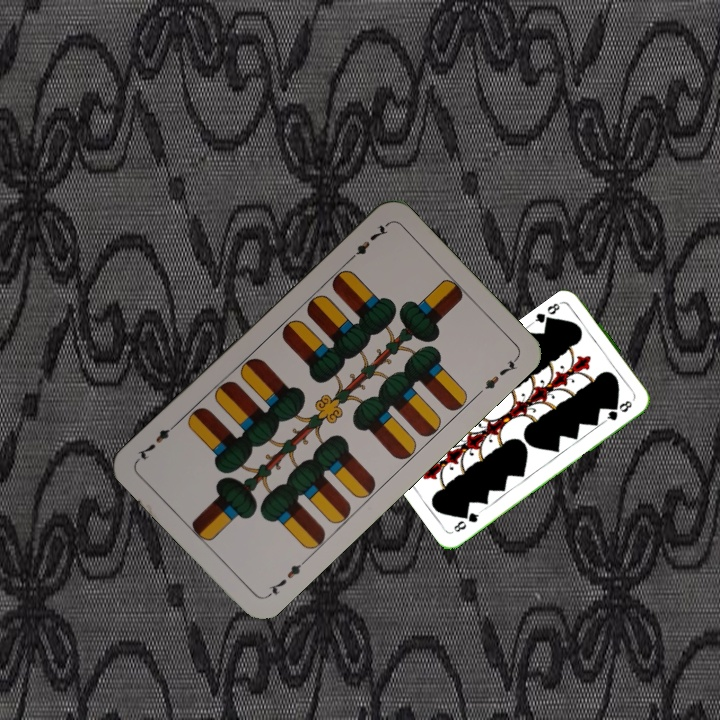E7: (343, 219, 391, 265), (263, 555, 310, 600)
G8: (529, 297, 565, 329), (449, 507, 484, 535)
